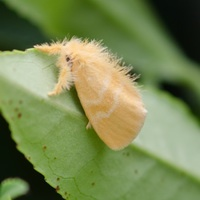insect: (34, 38, 146, 149)
